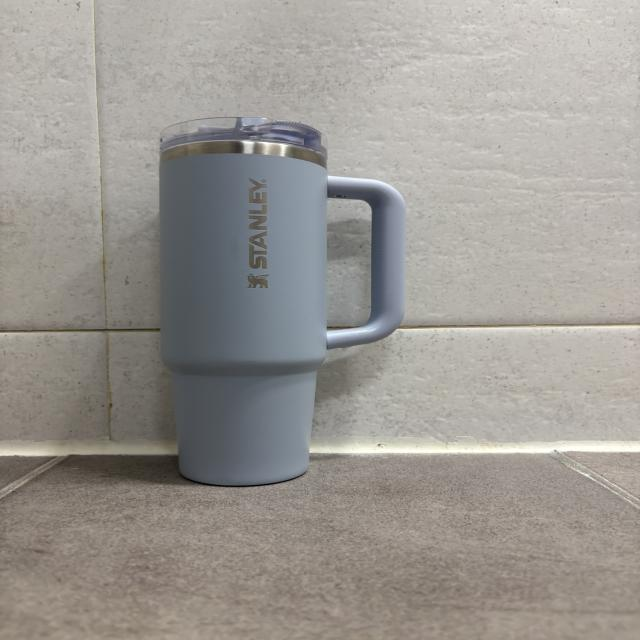waterbottle: (158, 113, 404, 487)
